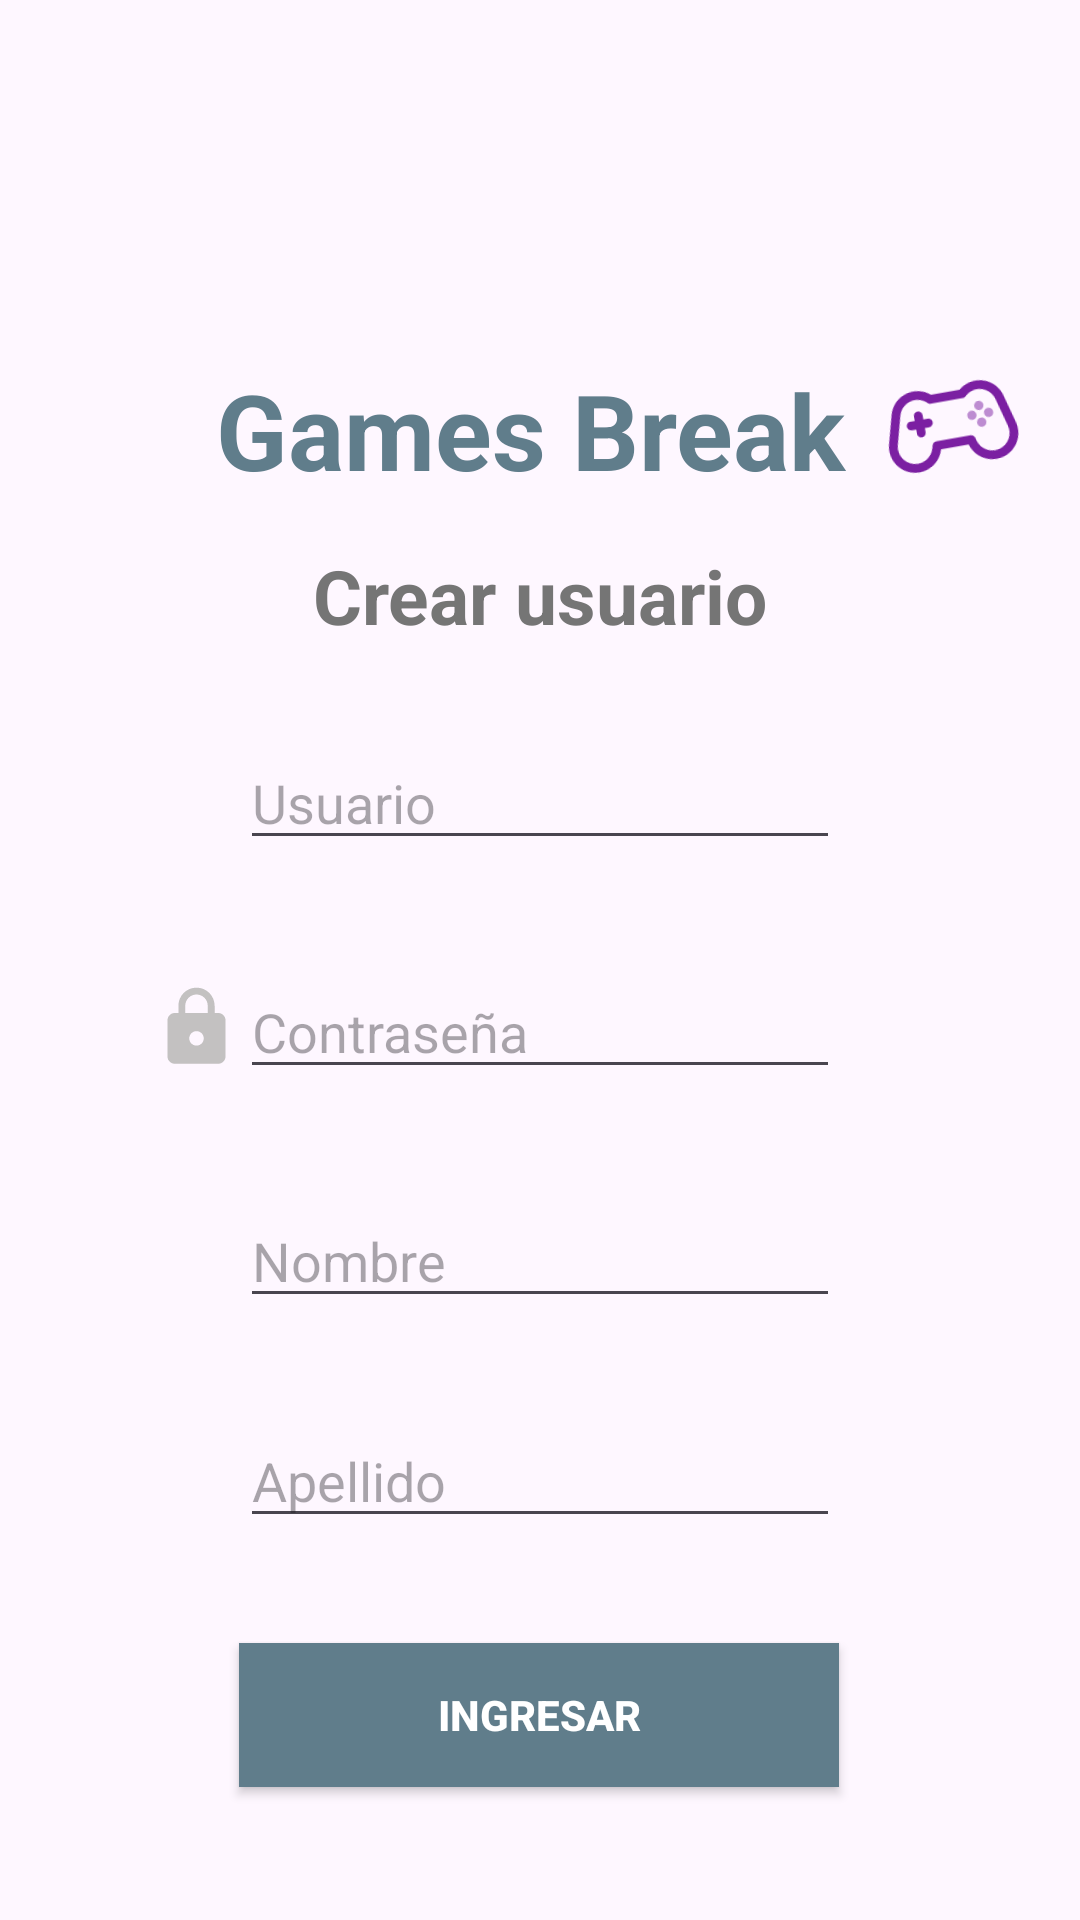

Named icons in this screenshot (1080x1920) and their bounding boxes, rect(x1, y1, x2, y2):
imagen de candado: rect(167, 988, 226, 1064)
